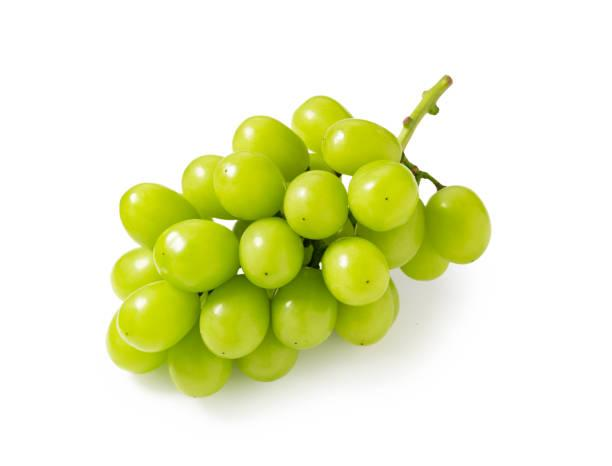grape: (77, 65, 502, 415)
